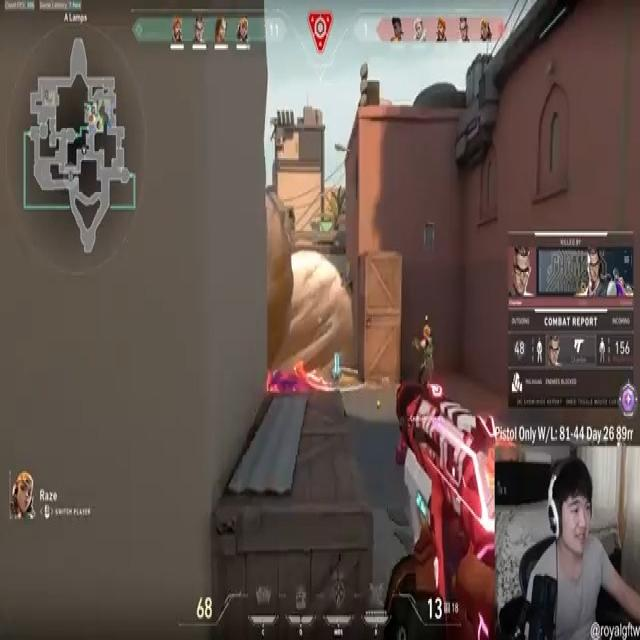ally: (411, 320, 438, 394)
smoke: (286, 251, 350, 373), (266, 192, 292, 368)
spike-planted: (329, 349, 345, 382)
